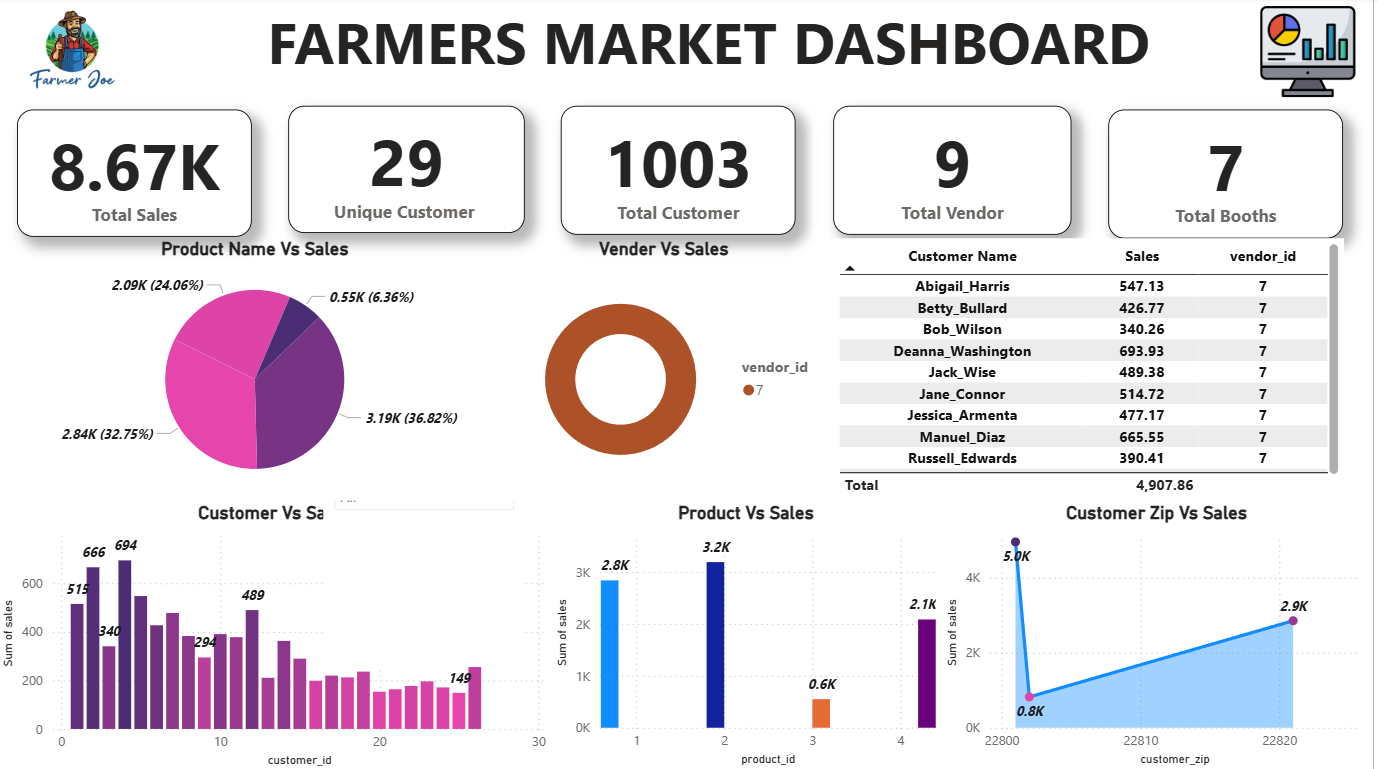

What the dashboard file says about the page in this screenshot:
{"tool":"powerbi","page":{"name":"Sales Wise Analysis","canvas":[1280,720],"ordinal":1},"visuals":[{"type":"columnChart","title":"Customer Vs Sales","fields":{"Category":["customer_purchases.customer_id"],"Y":["Sum(customer_purchases.sales)"]},"box":[0,469.3,516,251.1],"z":0},{"type":"slicer","fields":{"Values":["customer_purchases.customer_id"]},"box":[303.8,421.2,187.5,202.5],"z":1000},{"type":"clusteredColumnChart","title":"Product Vs Sales","fields":{"Series":["product.product_id"],"Category":["product.product_id"],"Y":["Sum(customer_purchases.sales)"]},"box":[515,470,363.3,250],"z":2000},{"type":"pieChart","title":"Product Name Vs Sales","fields":{"Category":["product.product_name"],"Y":["Sum(customer_purchases.sales)"]},"box":[0,225,480,243.8],"z":3000},{"type":"donutChart","title":"Vender Vs Sales","fields":{"Category":["vendor.vendor_id"],"Y":["Sum(customer_purchases.sales)"]},"box":[462.5,225,315,243.8],"z":4000},{"type":"textbox","box":[0,0,1280.3,101.5],"z":5000},{"type":"image","box":[1158.2,0,122.1,101.5],"z":6000},{"type":"card","fields":{"Values":["customer_purchases.total_sales"]},"box":[18.3,105,218.3,118.3],"z":7000},{"type":"card","fields":{"Values":["Count(customer_purchases.customer_id)"]},"box":[270.8,101.7,220,118.3],"z":8000},{"type":"card","fields":{"Values":["CountNonNull(customer_purchases.customer_id)"]},"box":[525,101.7,218.3,120],"z":9000},{"type":"card","fields":{"Values":["CountNonNull(vendor.vendor_id)"]},"box":[777.5,101.7,221.7,120],"z":10000},{"type":"card","fields":{"Values":["Count(vendor_booth_assignments.booth_number)"]},"box":[1033.3,105,218.3,120],"z":11000},{"type":"image","box":[0,0,140,101.5],"z":12000},{"type":"tableEx","fields":{"Values":["customer.customer_FullName","Sum(customer_purchases.sales)","customer_purchases.vendor_id"]},"box":[777.5,225,475,243.8],"z":13000},{"type":"areaChart","title":"Customer Zip Vs Sales","fields":{"Category":["customer.customer_zip"],"Y":["Sum(customer_purchases.sales)"]},"box":[878.3,470,401.7,250],"z":14000}]}

Visuals, with their boxes in screenshot pixels (x1, y1, x2, y2), scaled from the page's 1280x720 canvas onto the 1378x769 screenshot:
"Customer Vs Sales" columnChart: <bbox>0, 501, 556, 768</bbox>
slicer - customer_purchases.customer_id: <bbox>327, 450, 529, 666</bbox>
"Product Vs Sales" clusteredColumnChart: <bbox>554, 502, 946, 768</bbox>
"Product Name Vs Sales" pieChart: <bbox>0, 240, 517, 501</bbox>
"Vender Vs Sales" donutChart: <bbox>498, 240, 837, 501</bbox>
textbox: <bbox>0, 0, 1377, 108</bbox>
image: <bbox>1247, 0, 1377, 108</bbox>
card - customer_purchases.total_sales: <bbox>20, 112, 255, 238</bbox>
card - Count(customer_purchases.customer_id): <bbox>292, 109, 528, 235</bbox>
card - CountNonNull(customer_purchases.customer_id): <bbox>565, 109, 800, 237</bbox>
card - CountNonNull(vendor.vendor_id): <bbox>837, 109, 1076, 237</bbox>
card - Count(vendor_booth_assignments.booth_number): <bbox>1112, 112, 1347, 240</bbox>
image: <bbox>0, 0, 151, 108</bbox>
tableEx - customer.customer_FullName x Sum(customer_purchases.sales): <bbox>837, 240, 1348, 501</bbox>
"Customer Zip Vs Sales" areaChart: <bbox>946, 502, 1377, 768</bbox>
